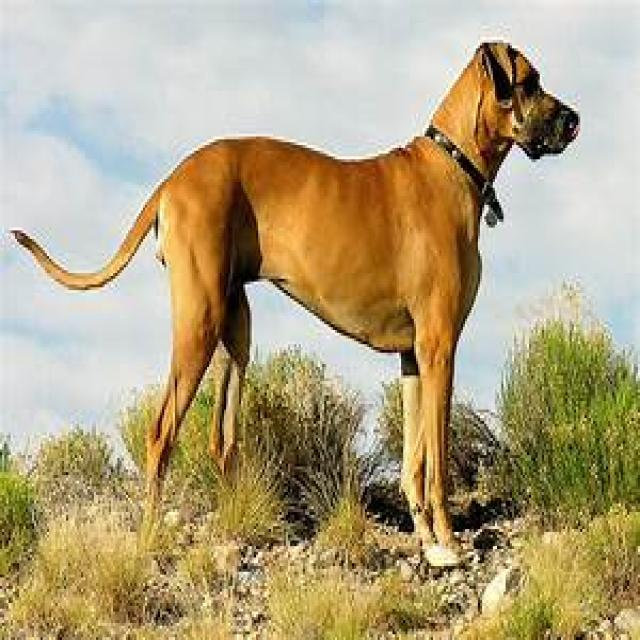dog: (14, 45, 579, 546)
